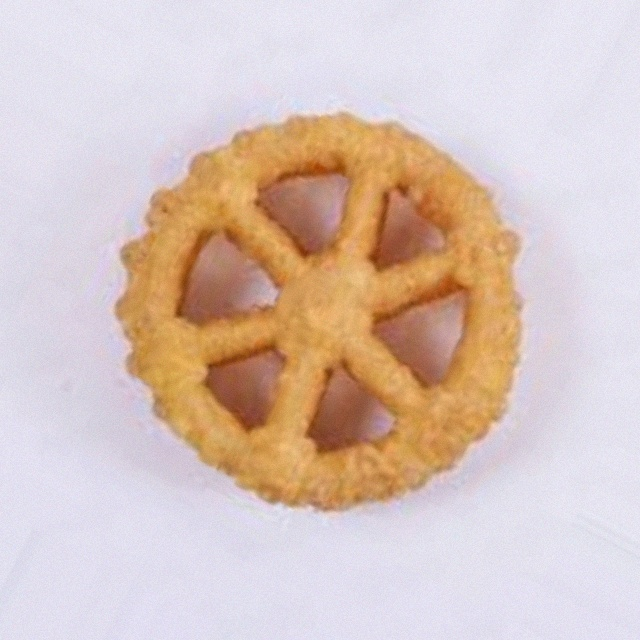Kokis: (67, 127, 573, 513)
